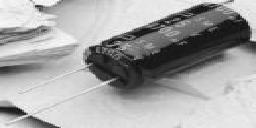Electrolytic Capacitor: (65, 1, 256, 92)
